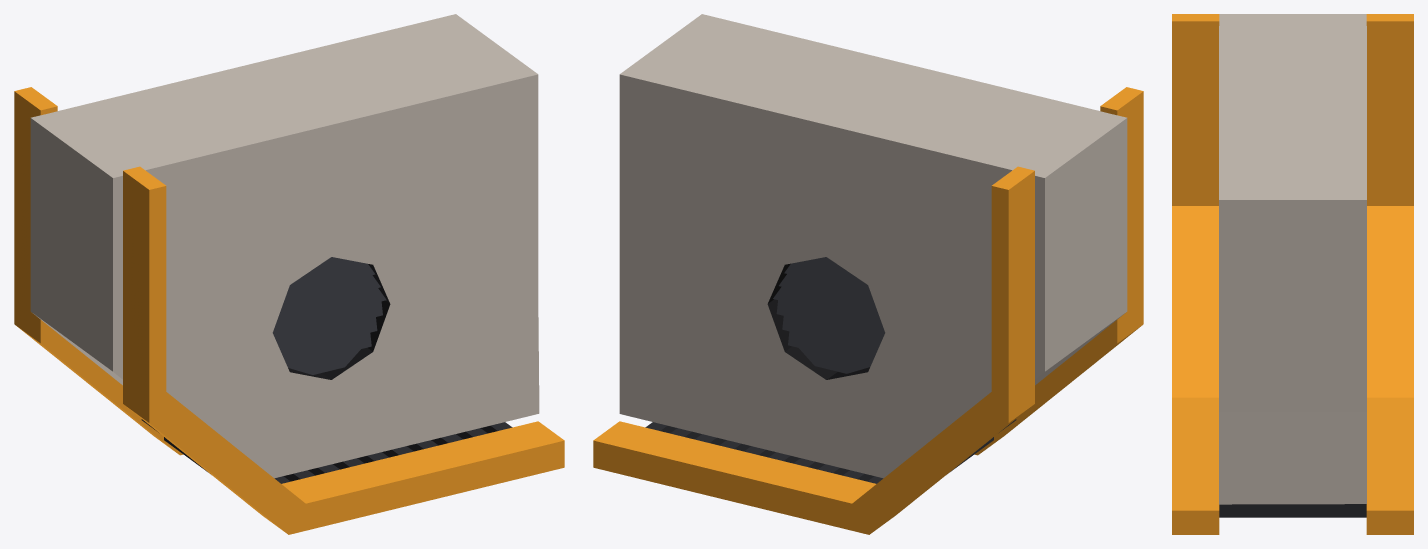
The model's file is SM_Ventilation.glb.
3 renders of one model, left to right at view 1: azimuth 30°, elevation 25°; view 2: azimuth 150°, elevation 25°; view 3: azimuth 270°, elevation 25°, orthographic. The views are drawn at different scales.
Parts seen in each view (by area): view 1: SM_Ventilation; view 2: SM_Ventilation; view 3: SM_Ventilation.
Boxes of the visible parts, box(x1,y1,x2,y2) form: SM_Ventilation: box(14, 14, 564, 534); SM_Ventilation: box(593, 14, 1143, 534); SM_Ventilation: box(1172, 14, 1413, 534).
Bounding box in the file's own units: 1.68 × 1.43 × 0.9221.
1 material, 1 textured.
